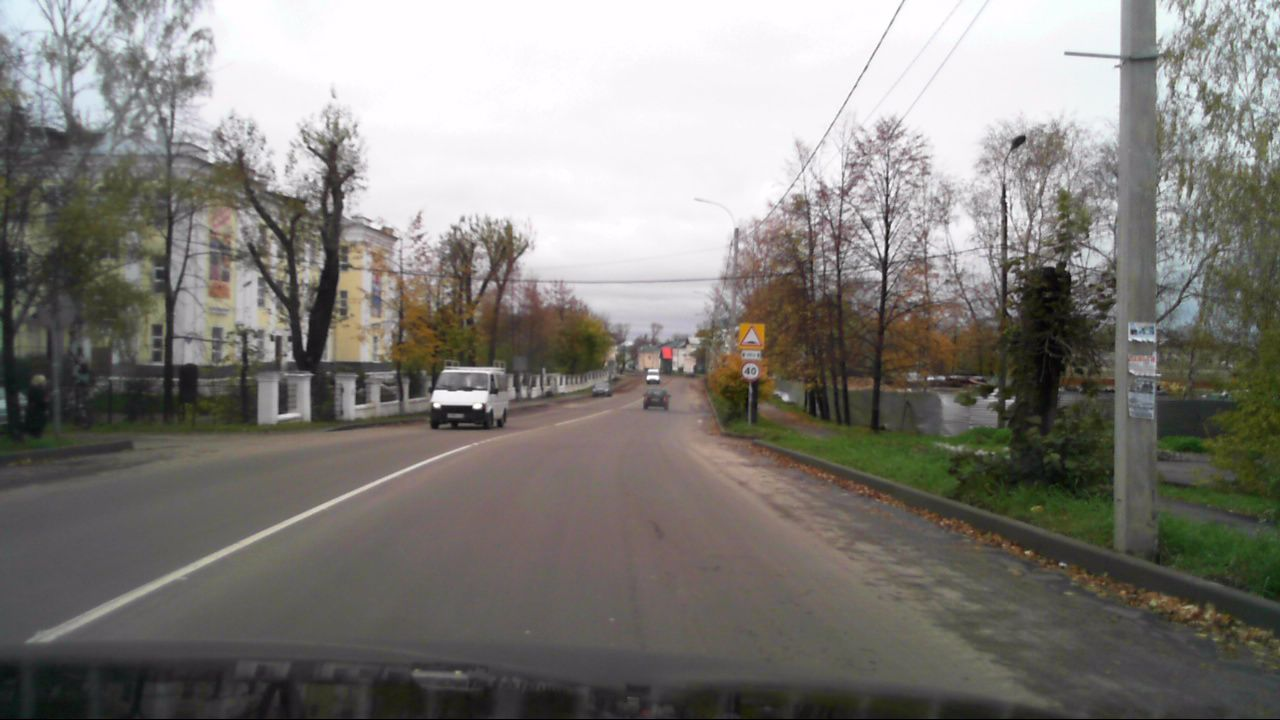speed_warning_40: (741, 363, 759, 380)
